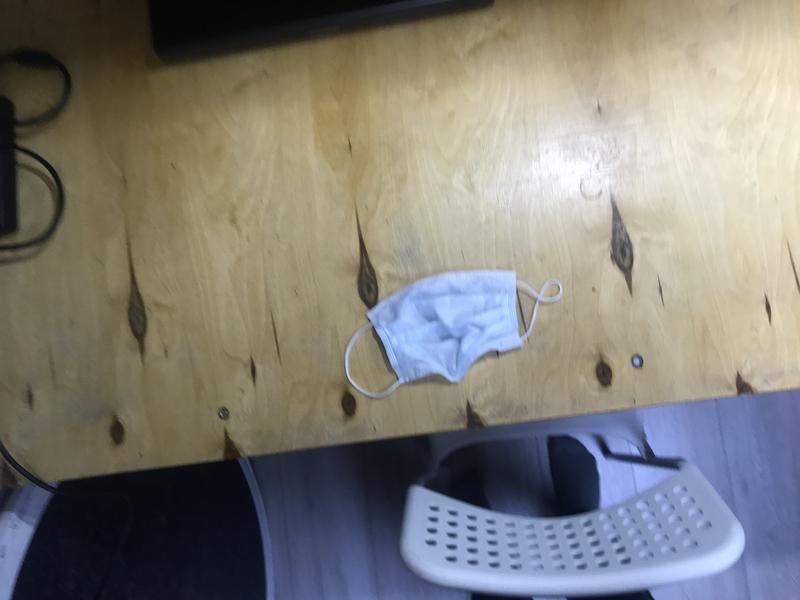medical_mask: (343, 269, 563, 400)
